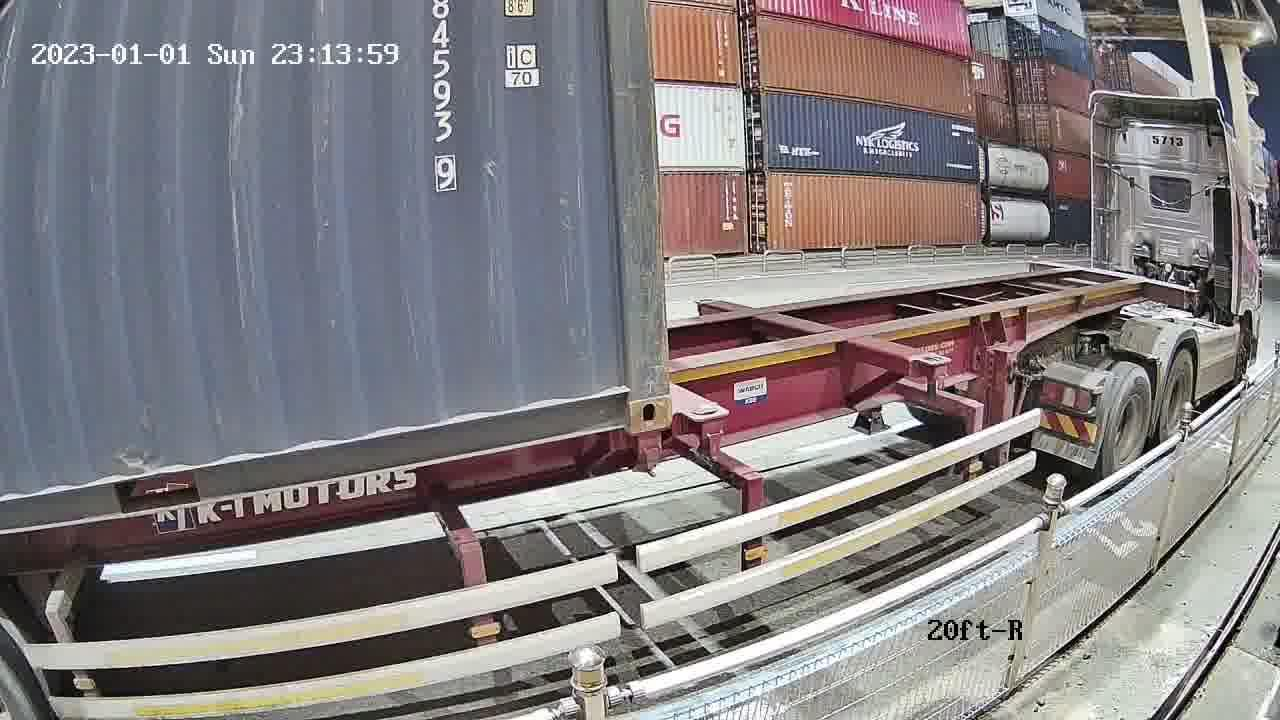Cone: (682, 401, 729, 463), (629, 429, 666, 478)
Hole_R: (580, 349, 673, 436)
Tire: (1102, 367, 1153, 480), (1164, 352, 1194, 446)
